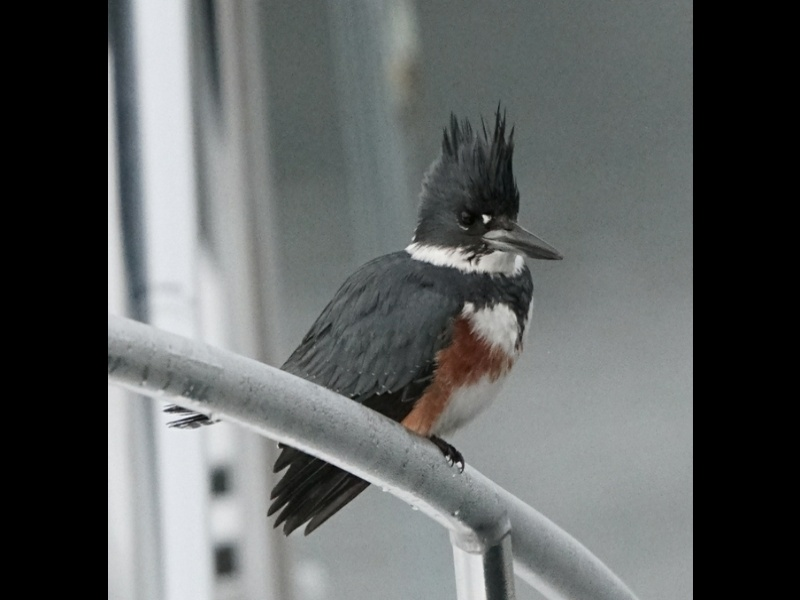kingfisher: (163, 97, 566, 539)
